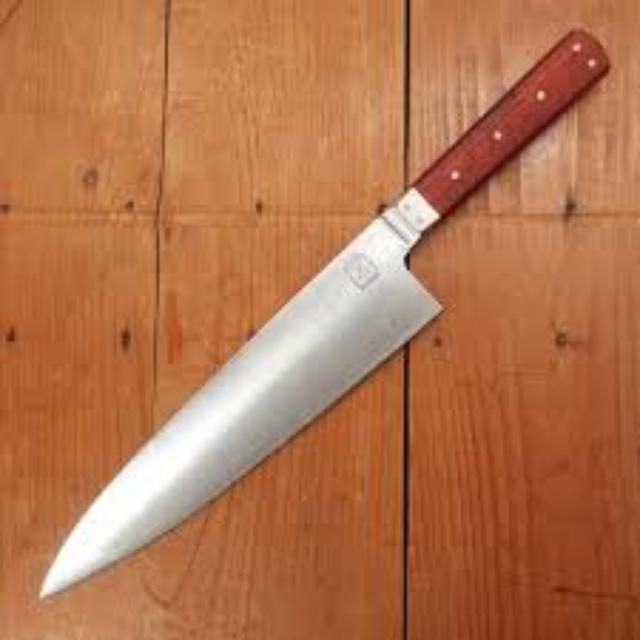Knife: (37, 26, 608, 596)
